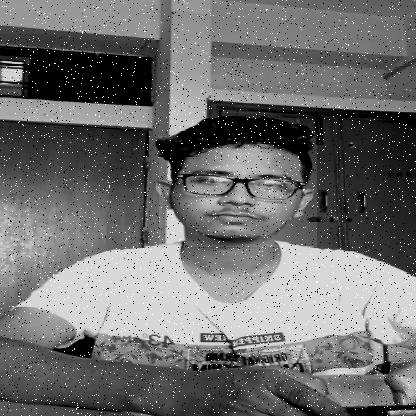Normal: (159, 136, 317, 247)
